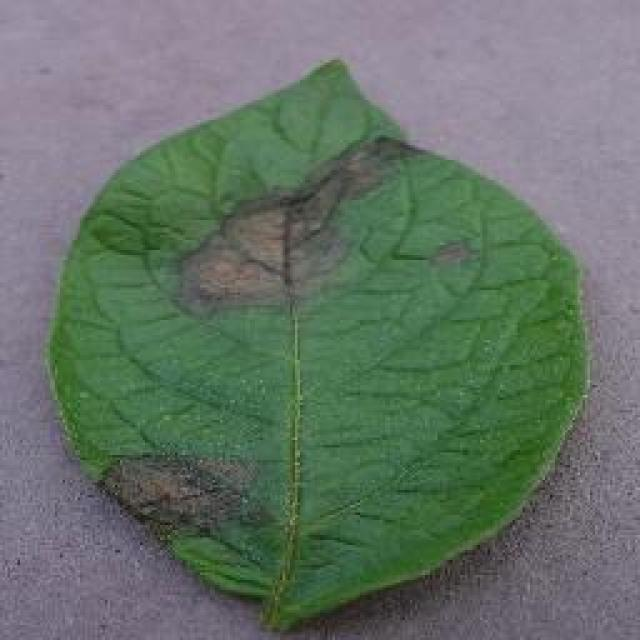late_blight: (40, 53, 595, 635)
